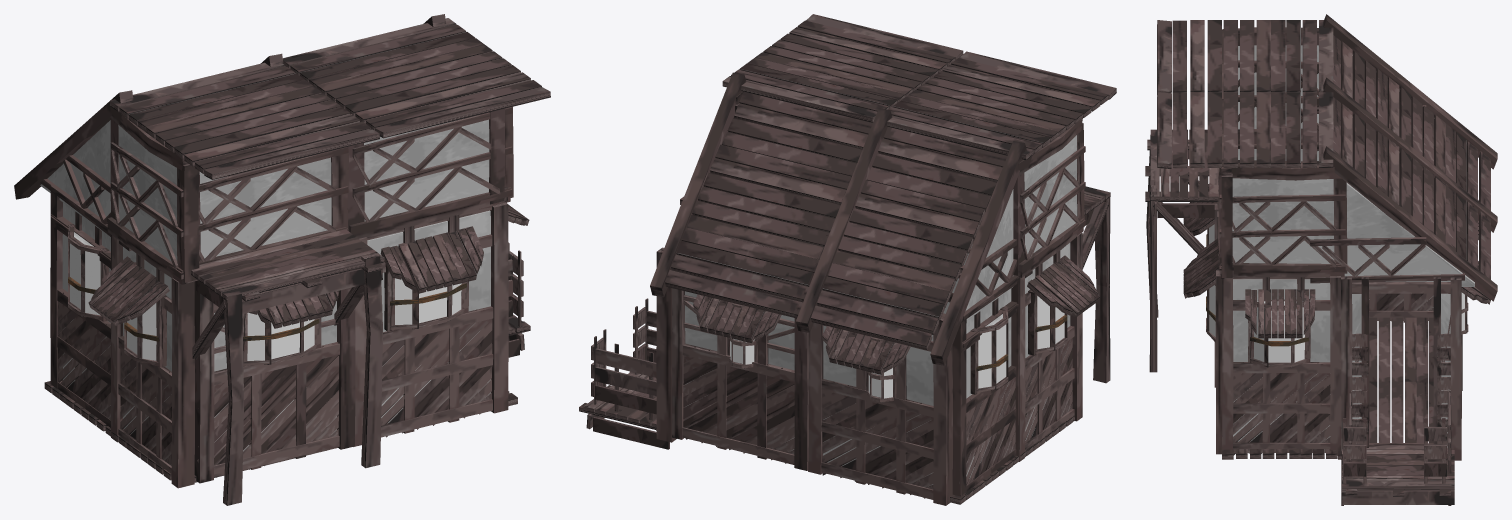
Rendered from House-col_001.glb.
3 views of the same model, side by side, from view 1: azimuth 30°, elevation 25°; view 2: azimuth 150°, elevation 25°; view 3: azimuth 270°, elevation 25° (orthographic). The views are drawn at different scales.
Parts seen in each view (by area): view 1: House-col.001; view 2: House-col.001; view 3: House-col.001.
Part boxes in pixels (x1,y1,x2,y2): House-col.001: [14, 14, 550, 505]; House-col.001: [579, 14, 1116, 505]; House-col.001: [1145, 14, 1497, 505].
Size of the model in its own units: 8.48 by 6.36 by 6.36.
Materials: 1 (1 with a texture image).
